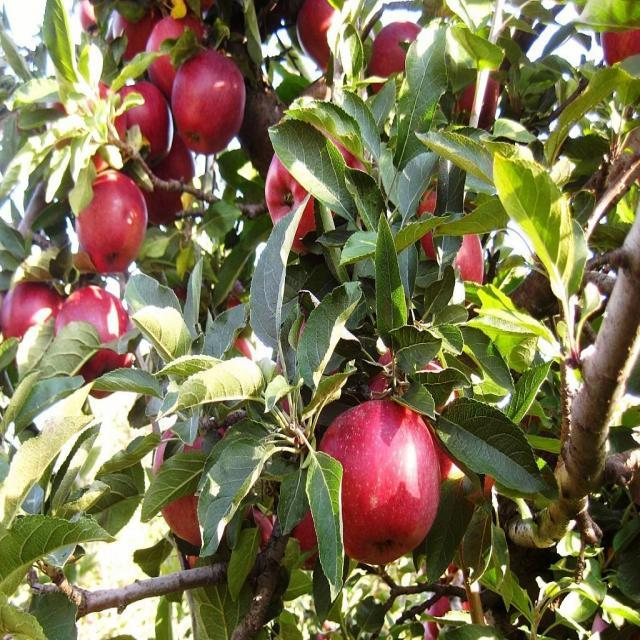Red Apple: (324, 403, 447, 556), (157, 425, 242, 552), (270, 134, 356, 240), (175, 56, 249, 150), (81, 175, 149, 267), (65, 290, 130, 375), (122, 79, 180, 157), (142, 140, 198, 220), (151, 16, 206, 94), (4, 282, 64, 352), (380, 21, 423, 81), (294, 1, 341, 50), (438, 228, 481, 281), (460, 76, 505, 122), (112, 13, 154, 59), (607, 24, 639, 61)
